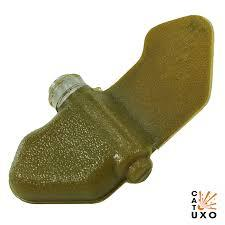PMF 1: (7, 13, 213, 207)
